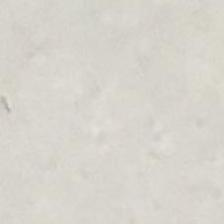Non_Crack: (30, 37, 223, 224)
